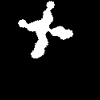single_crochet: (18, 1, 72, 57)
